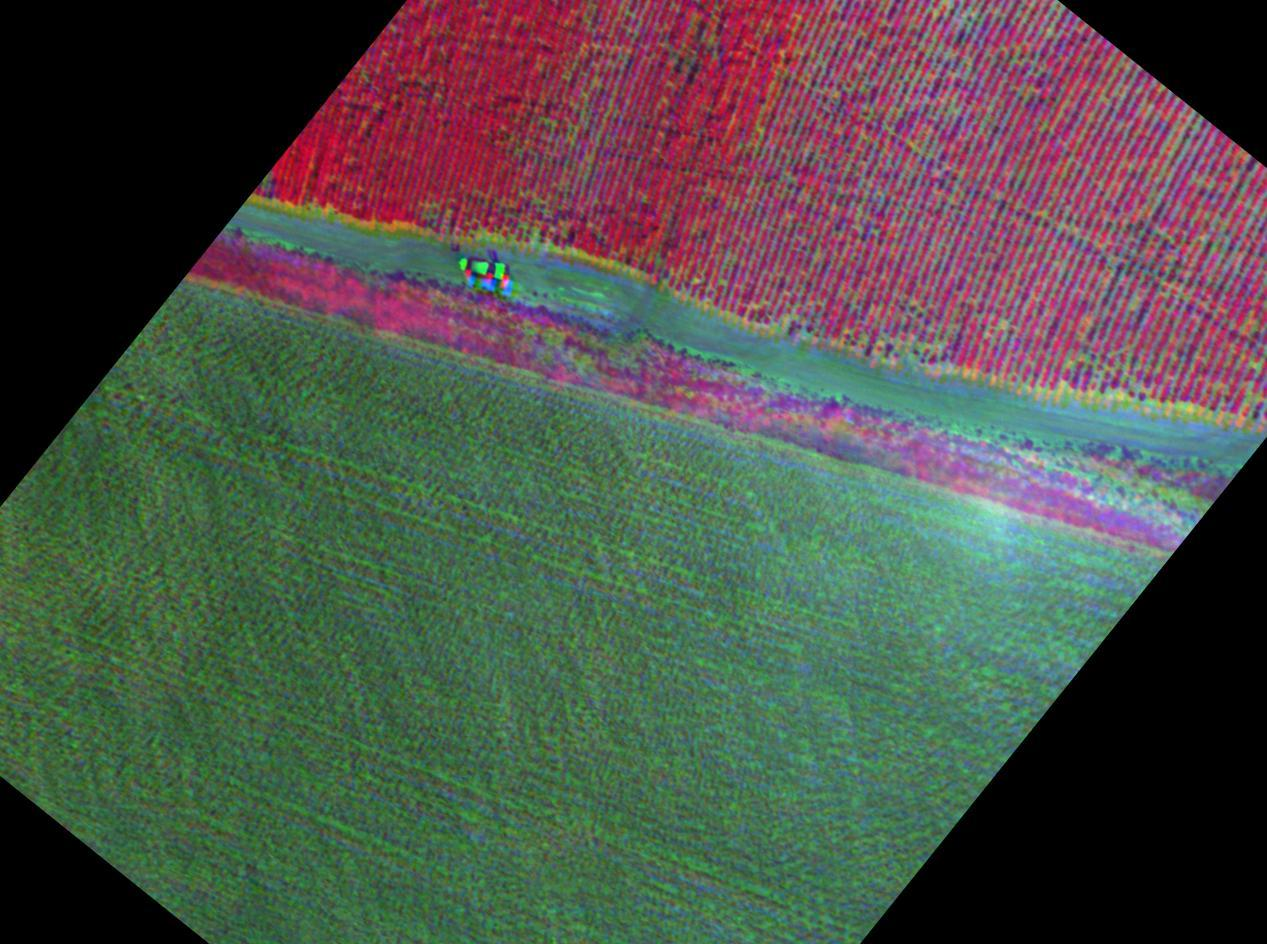dc: (936, 0, 1030, 90), (1126, 140, 1228, 220), (841, 298, 965, 357), (801, 113, 894, 183), (1063, 338, 1148, 406)
